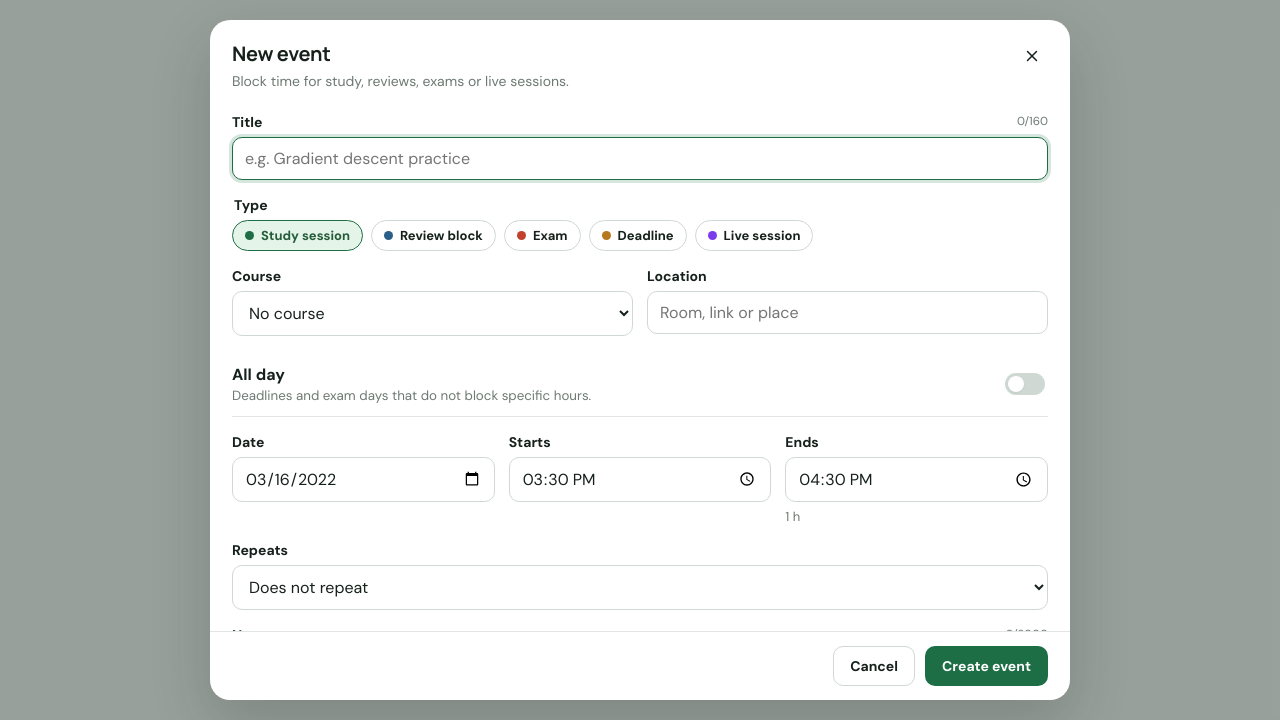
Test: EventModal › shows the server error when saving fails
The image size is (1280, 720).
Type "Focus block" into the field labelled "Title 0/160" at (640, 158), box 232,137 -> 1048,180
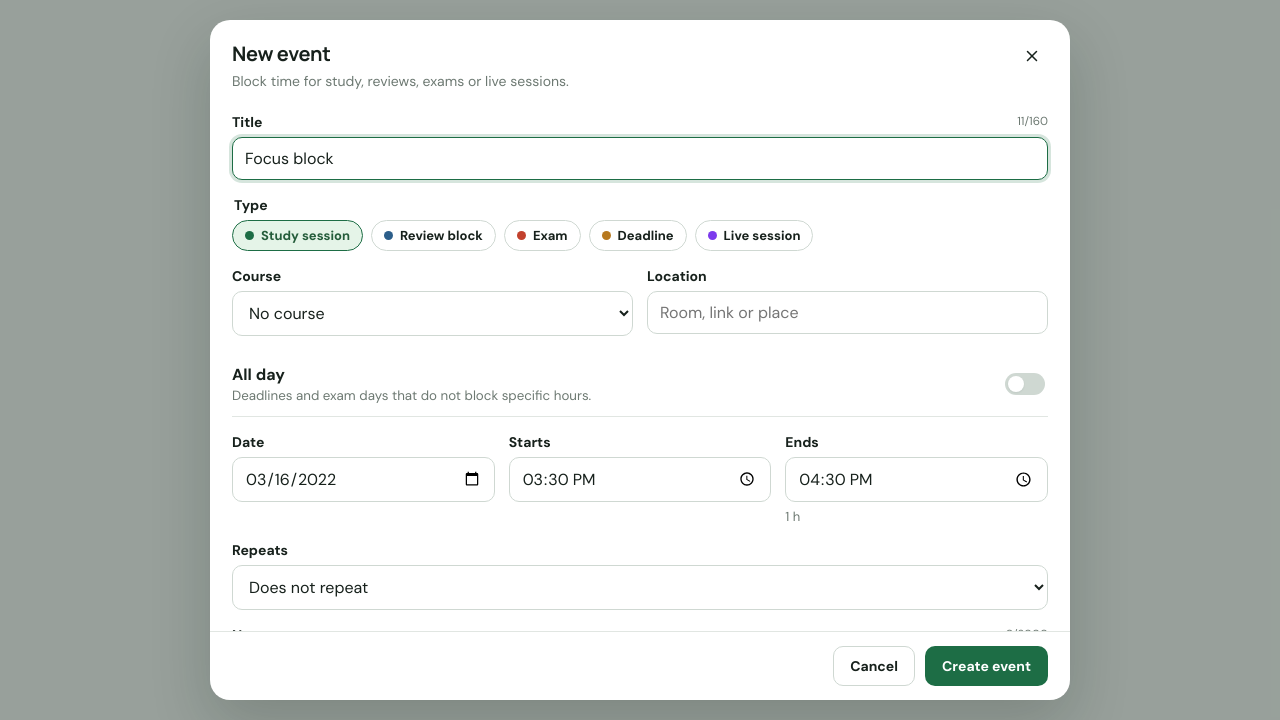
Click the button "Create event" at (986, 666), box 925,646 -> 1048,686
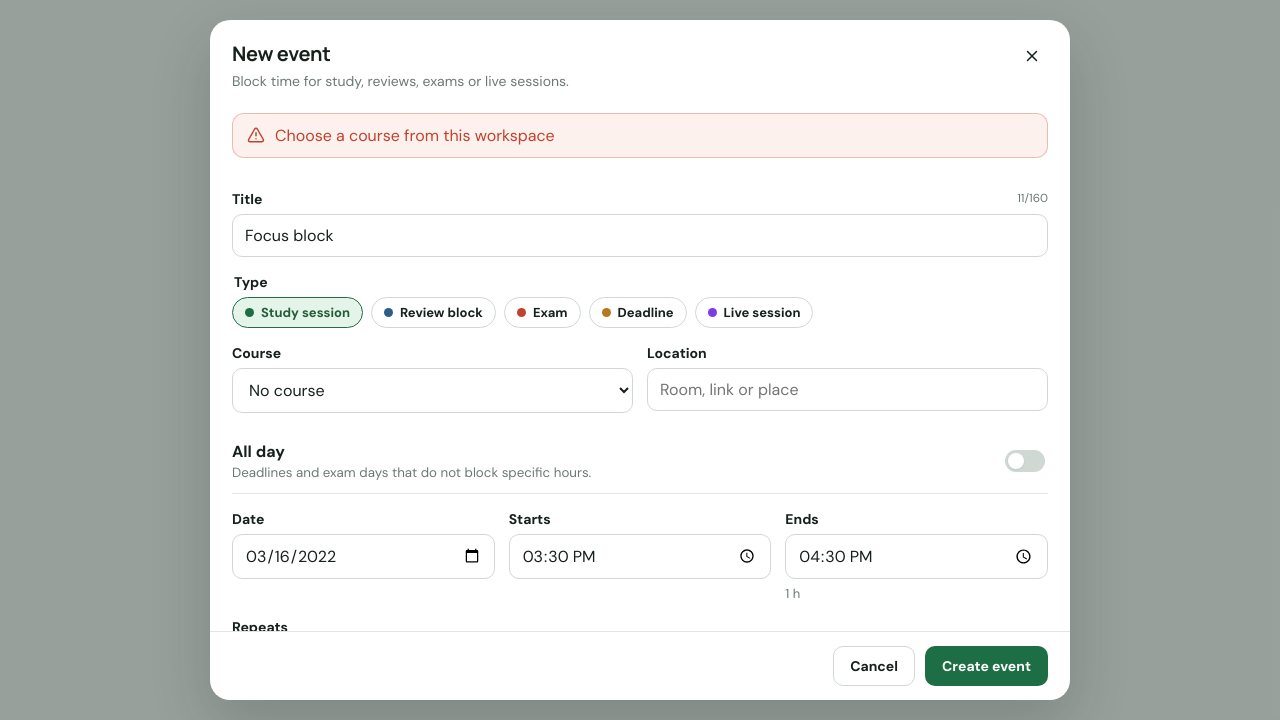
Expected: the message reads "Choose a course from this workspace", 275,125 -> 555,146
